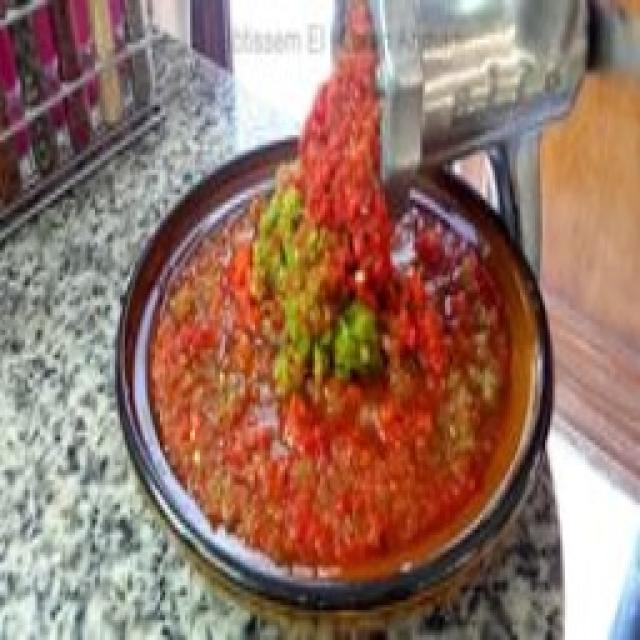Harissa: (118, 0, 552, 609)
